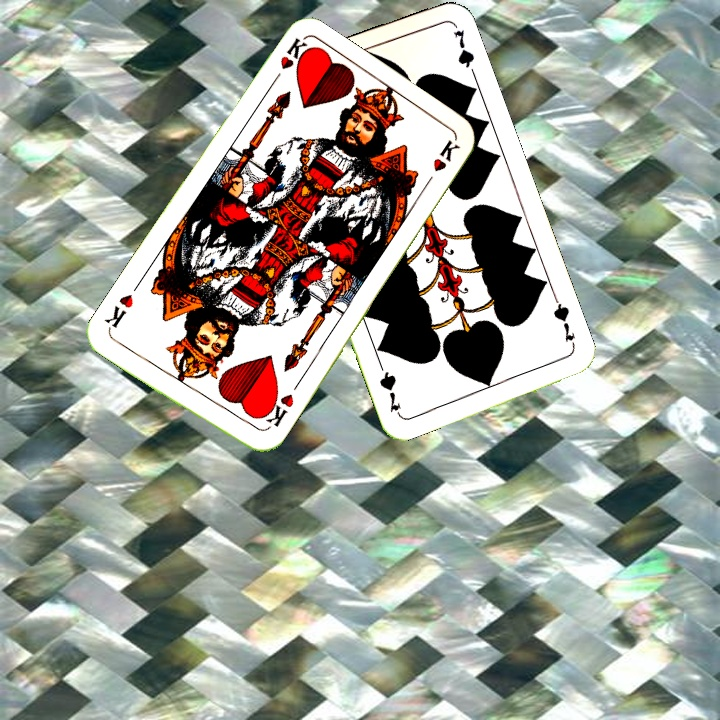G7: (549, 294, 578, 351)
HK: (266, 34, 311, 89), (257, 388, 297, 434)
